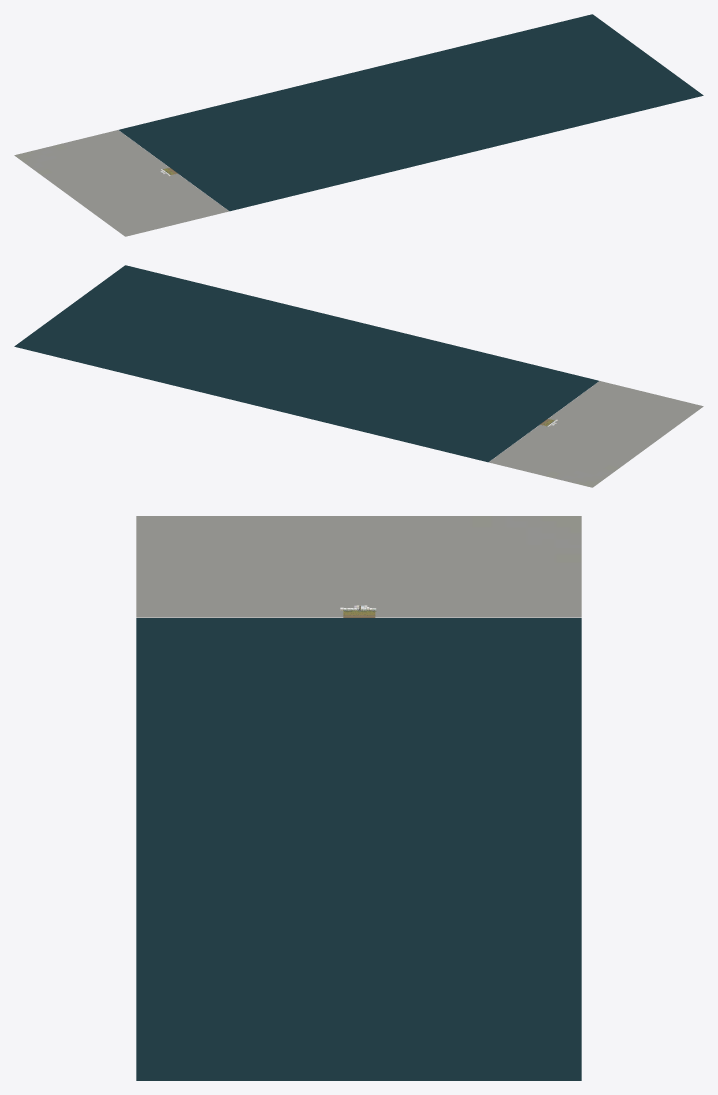
Rendered from model_mobile.glb.
The picture shows the model from 3 angles, top to bottom: view 1: azimuth 30°, elevation 25°; view 2: azimuth 150°, elevation 25°; view 3: azimuth 270°, elevation 25°; orthographic projection. The views are drawn at different scales.
Parts seen in each view (by area): view 1: Ocean, G_Far; view 2: Ocean, G_Far; view 3: Ocean, G_Far.
Boxes of the visible parts, x1,y1,x2,y2 form: Ocean: (119,14,703,211); G_Far: (14,130,228,236); Ocean: (14,265,598,462); G_Far: (489,381,703,487); Ocean: (136,618,581,1080); G_Far: (136,516,581,617).
Size of the model in its own units: 10973 by 18.68 by 3658.
Materials: 15 (11 with a texture image).
